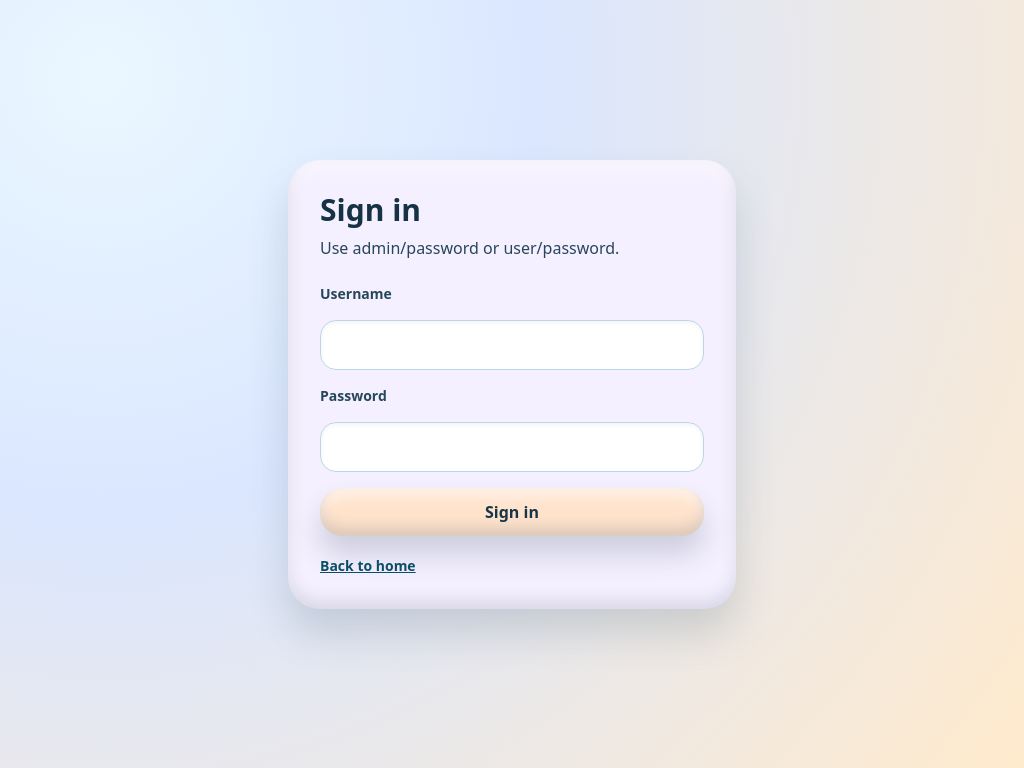
LoginPage › shows validation message when fields are missing
Click the button "Sign in" at (512, 512), box left=320, top=488, right=704, bottom=536
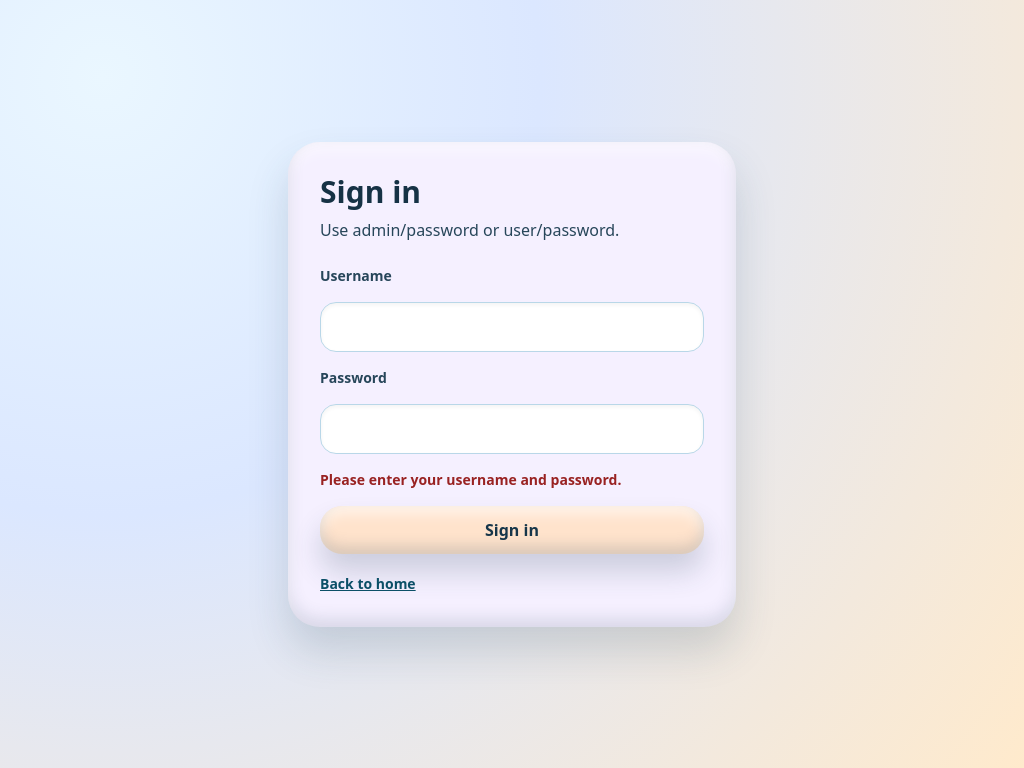
Check: the text "Please enter your username and password." is shown, box left=320, top=470, right=621, bottom=488
